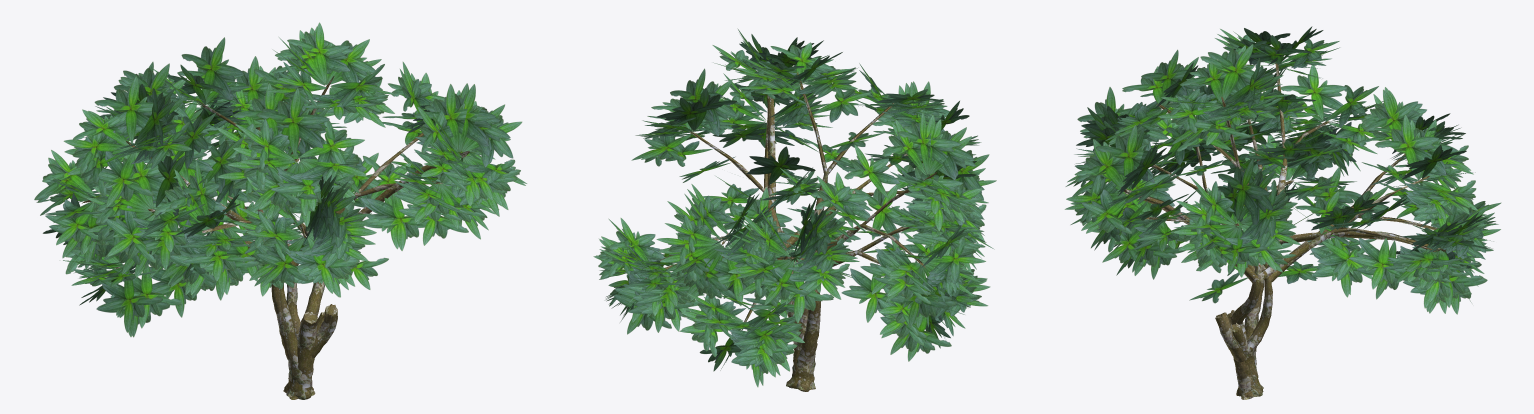
Rendered from bush_04_B_001.glb.
3 views of the same model, side by side, from view 1: azimuth 30°, elevation 25°; view 2: azimuth 150°, elevation 25°; view 3: azimuth 270°, elevation 25° (orthographic). The views are drawn at different scales.
Parts seen in each view (by area): view 1: bush_04_B.001; view 2: bush_04_B.001; view 3: bush_04_B.001.
Part boxes in pixels (bbox=[...]): bush_04_B.001: bbox=[34, 22, 526, 399]; bush_04_B.001: bbox=[593, 28, 996, 391]; bush_04_B.001: bbox=[1065, 26, 1501, 399].
Bounding box in the file's own units: 1.15 × 0.9326 × 1.14.
Materials: 2 (2 with a texture image).
